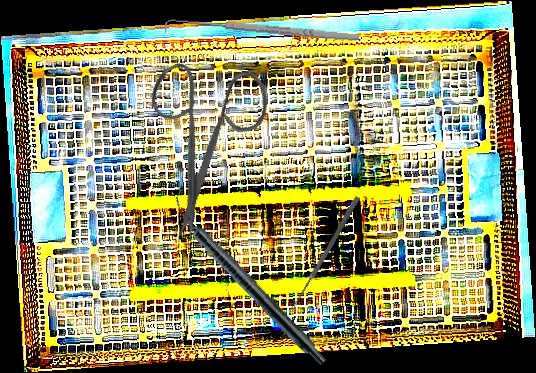Handpiece: (163, 195, 333, 369)
Hook Surgical: (164, 14, 360, 50)
Iris Scissors: (102, 31, 315, 249)
Surgical Spoon: (287, 195, 361, 315)
